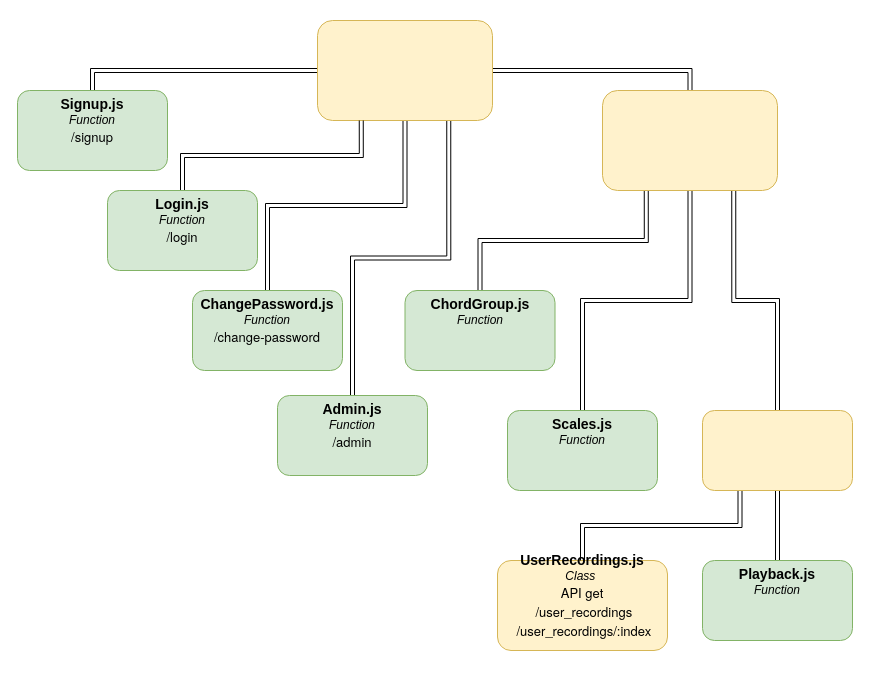
Some shapes in this 870 by 676 pixel diagram are drawn without their labels. The shapes that lost their labels are listed below. From the top down, each one's centre as x and y in pixels, then its label:
the point at 404,70: App.js Class API posts /user/signup /user/id: /user/login
the point at 690,140: ChordsSelection.js Class API gets /musicalkeys /chords /scales
the point at 777,450: Recorder.js Class
